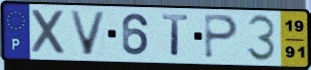3: (245, 13, 277, 64)
6: (120, 12, 151, 58)
P: (203, 13, 240, 61)
T: (161, 12, 191, 59)
V: (67, 9, 109, 57)
X: (30, 7, 68, 57)
